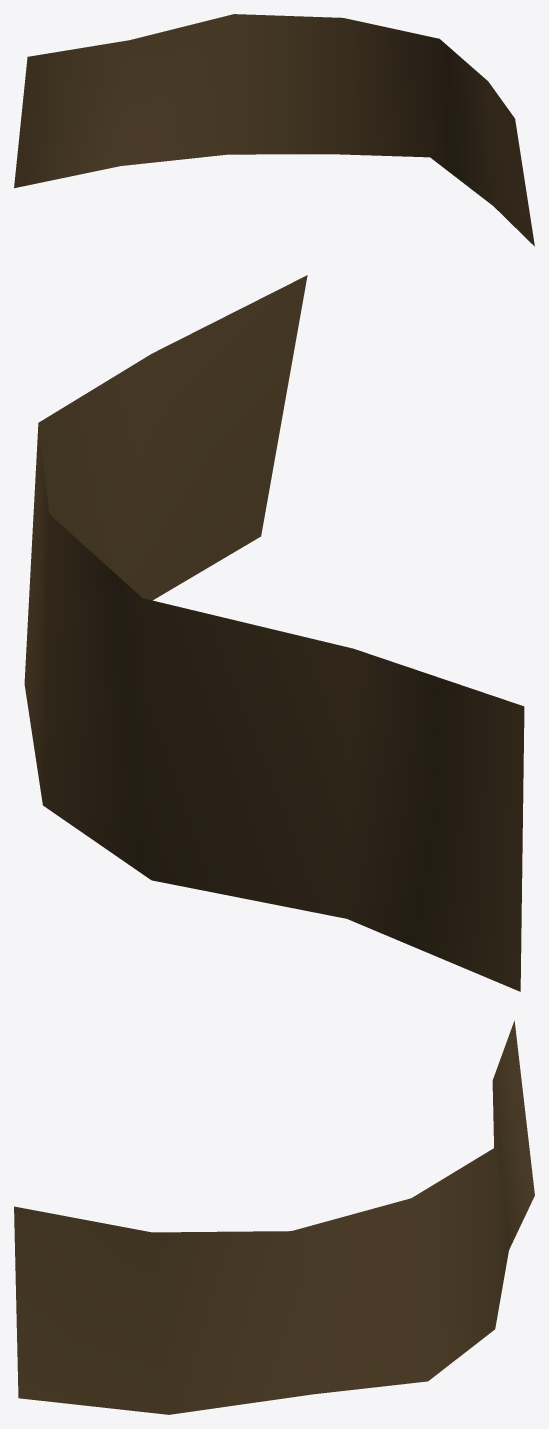
The model's file is SWORDLIGHT20_PS-AREA03_38.fbx.
3 views of the same model, one above another, from view 1: azimuth 30°, elevation 25°; view 2: azimuth 150°, elevation 25°; view 3: azimuth 270°, elevation 25° (orthographic). The views are drawn at different scales.
Visible parts, largest first — view 1: SWORDLIGHT20_PS-AREA03_38; view 2: SWORDLIGHT20_PS-AREA03_38; view 3: SWORDLIGHT20_PS-AREA03_38.
Part boxes in pixels (x1,y1,x2,y2): SWORDLIGHT20_PS-AREA03_38: (14,14,534,246); SWORDLIGHT20_PS-AREA03_38: (24,275,524,991); SWORDLIGHT20_PS-AREA03_38: (14,1020,534,1414).
Bounding box in the file's own units: 123461 × 49976 × 123732.
Materials: 1 (1 with a texture image).
